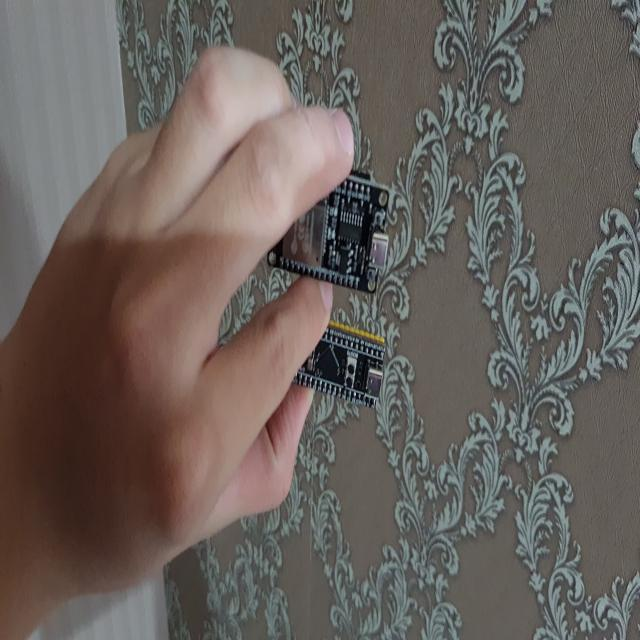ESP32: (271, 172, 389, 292)
STM32: (296, 322, 384, 407)
